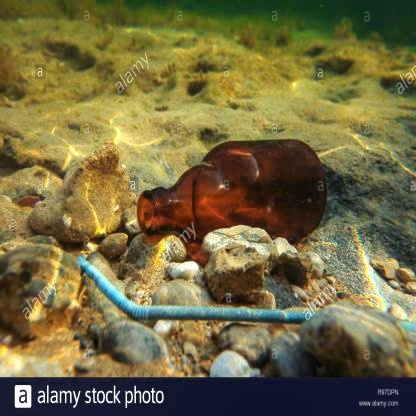gbottle: (136, 138, 328, 241)
plastic: (78, 256, 317, 324)
